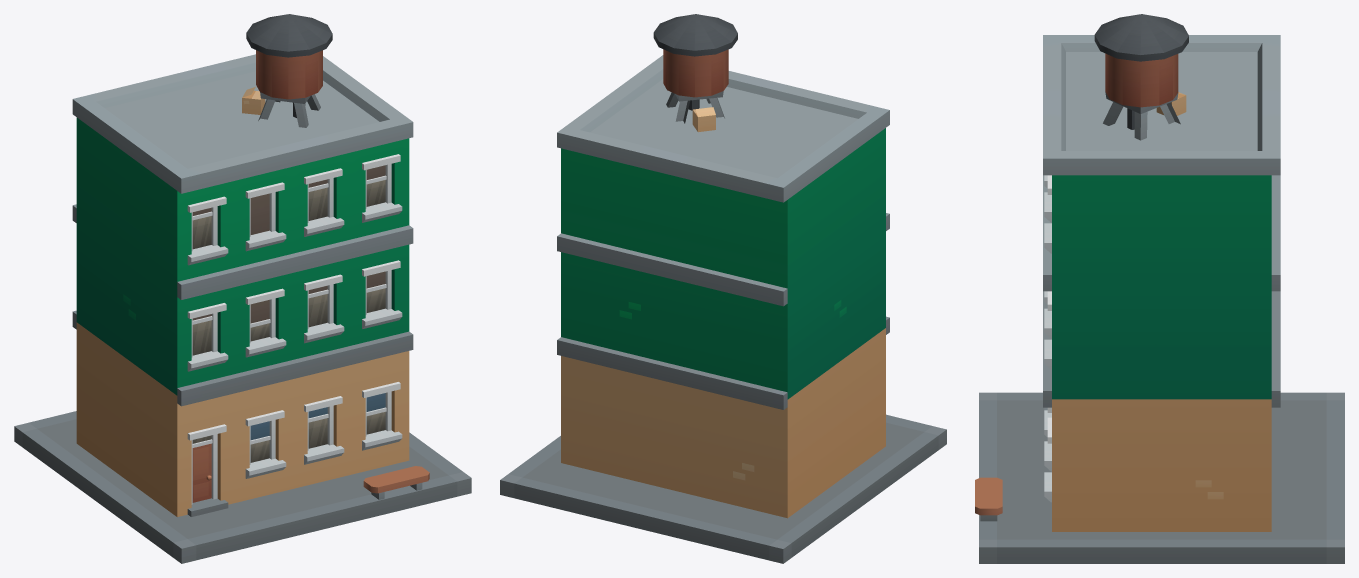
The model's file is building_free_model_b_b_b.glb.
3 renders of one model, left to right at view 1: azimuth 30°, elevation 25°; view 2: azimuth 150°, elevation 25°; view 3: azimuth 270°, elevation 25°, orthographic. The views are drawn at different scales.
Parts seen in each view (by area): view 1: building_D; view 2: building_D; view 3: building_D.
Part boxes in pixels (left/top/right/bottom): building_D: left=14, top=14, right=471, bottom=563; building_D: left=500, top=14, right=946, bottom=563; building_D: left=975, top=14, right=1344, bottom=563.
Size of the model in its own units: 2 by 2.97 by 2.02.
Materials: 1 (1 with a texture image).
